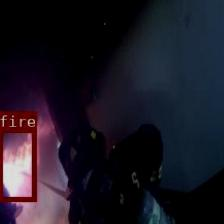fire: (0, 127, 35, 200)
